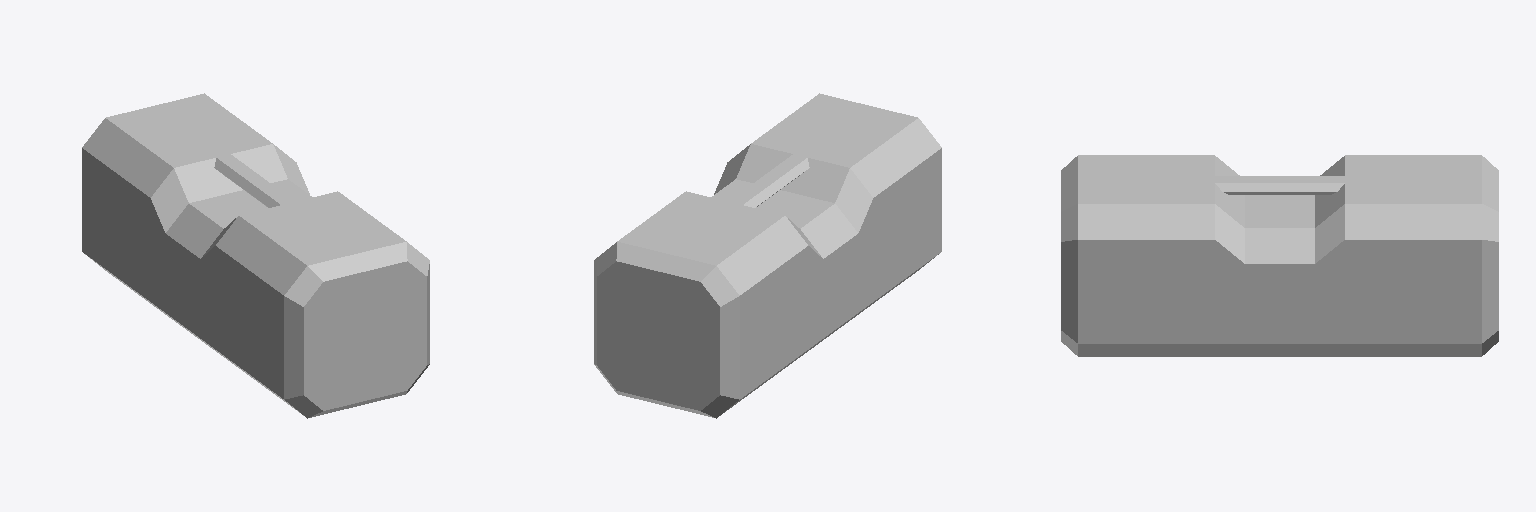
The model's file is ammo_box.obj.
The picture shows the model from 3 angles: view 1: azimuth 30°, elevation 25°; view 2: azimuth 150°, elevation 25°; view 3: azimuth 270°, elevation 25°; orthographic projection.
Parts seen in each view (by area): view 1: Ammo_box; view 2: Ammo_box; view 3: Ammo_box.
Boxes of the visible parts, <box> form: Ammo_box: <box>82,93,429,418</box>; Ammo_box: <box>594,93,941,418</box>; Ammo_box: <box>1061,155,1498,356</box>.
Bounding box in the file's own units: 50 × 50 × 130.